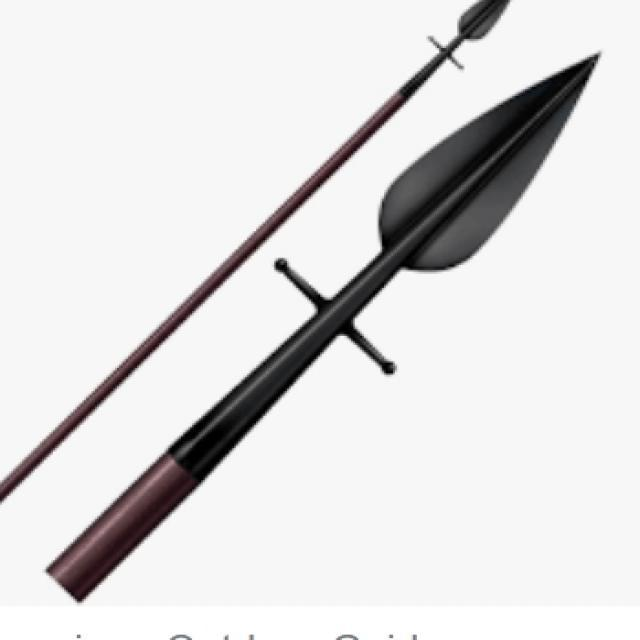spear: (44, 32, 617, 613)
